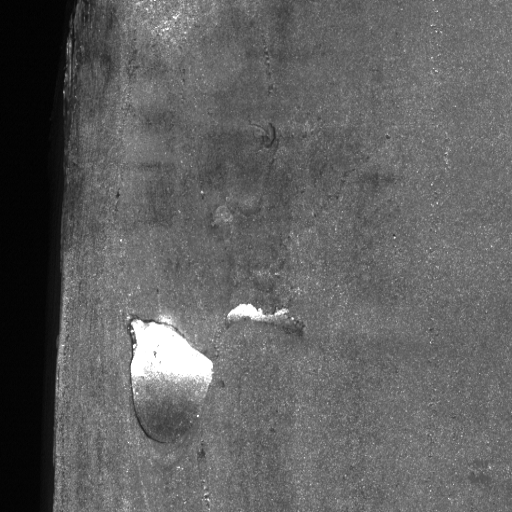aokeng: (123, 310, 214, 445), (223, 300, 307, 340)
